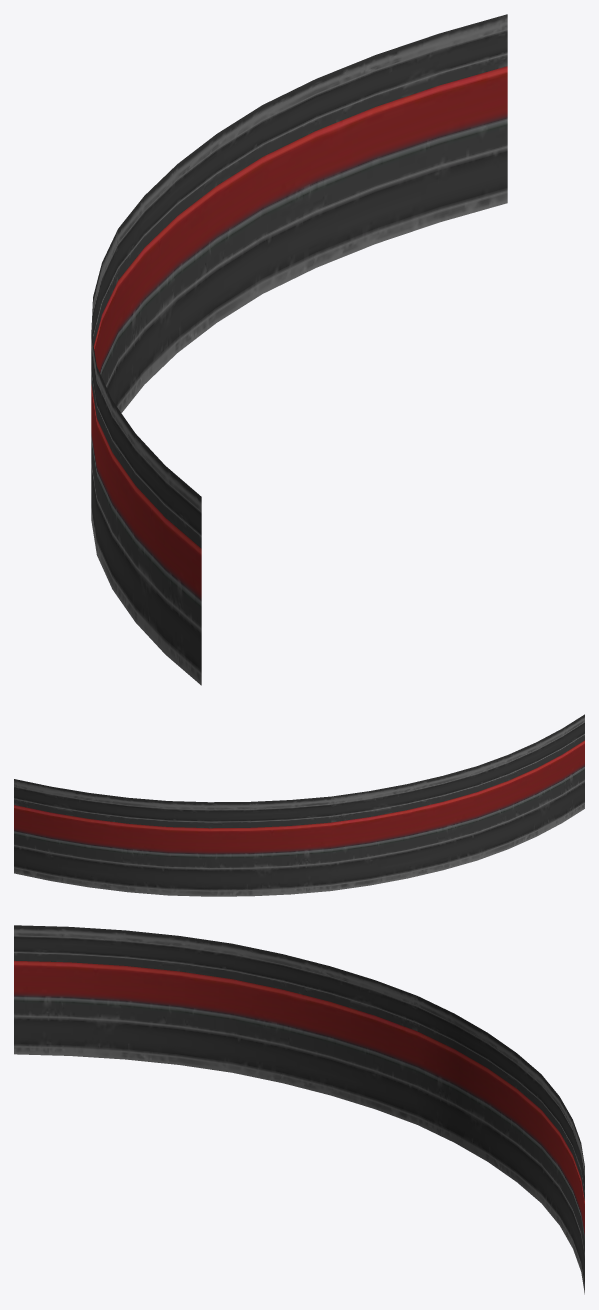
Rendered from ShortWall_AccentStrip_Corner_Outer.glb.
The picture shows the model from 3 angles, top to bottom: view 1: azimuth 30°, elevation 25°; view 2: azimuth 150°, elevation 25°; view 3: azimuth 270°, elevation 25°; orthographic projection. The views are drawn at different scales.
Visible parts, largest first — view 1: ShortWall_AccentStrip_Corner_Outer; view 2: ShortWall_AccentStrip_Corner_Outer; view 3: ShortWall_AccentStrip_Corner_Outer.
Part boxes in pixels (left/top/right/bottom): ShortWall_AccentStrip_Corner_Outer: left=91, top=14, right=507, bottom=685; ShortWall_AccentStrip_Corner_Outer: left=14, top=714, right=584, bottom=896; ShortWall_AccentStrip_Corner_Outer: left=14, top=925, right=584, bottom=1294.
Size of the model in its own units: 4 by 0.9981 by 4.
1 material, 1 textured.
